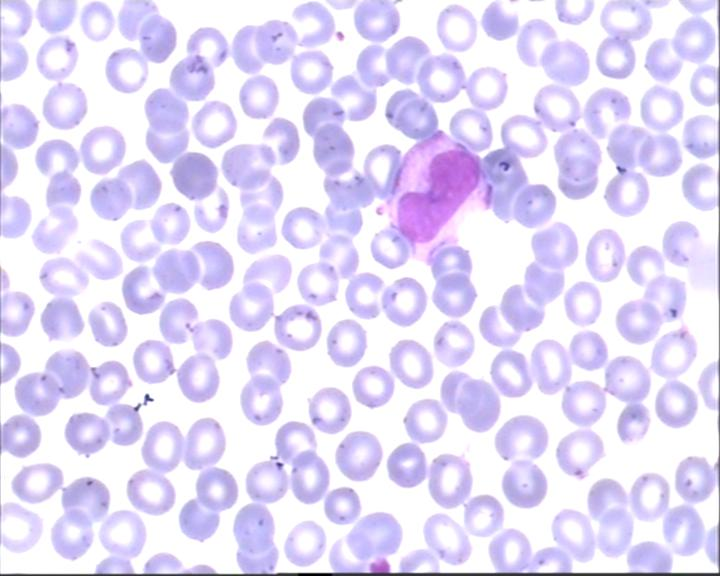mono: (379, 126, 493, 263)
